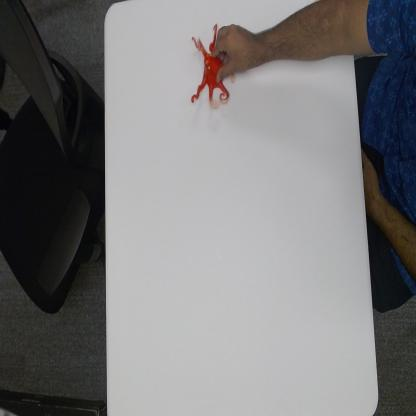Arm: (270, 0, 416, 64)
Hand: (209, 23, 270, 84)
Octopus: (189, 20, 237, 110)
